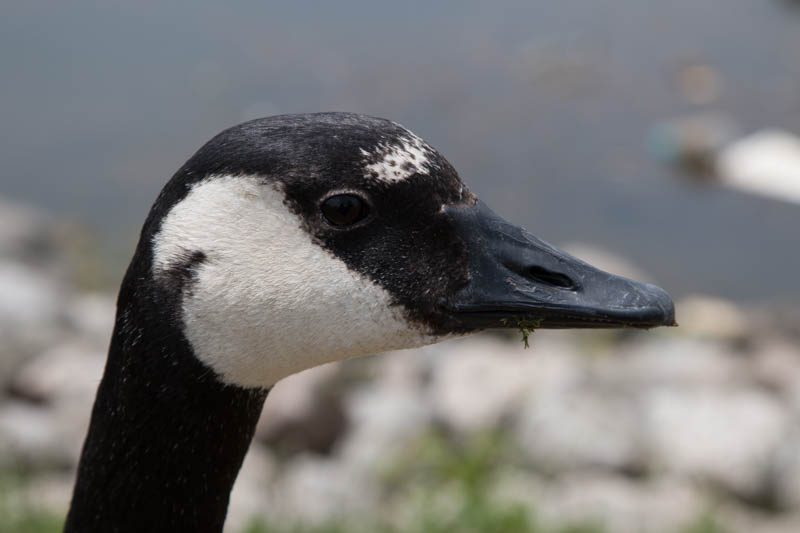goose-head: (98, 111, 677, 386)
